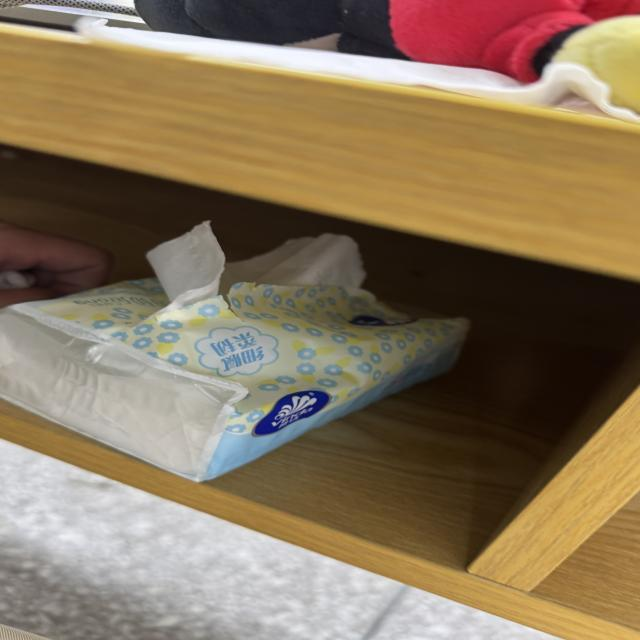mickey: (136, 0, 639, 110)
tissue: (0, 223, 467, 479), (148, 222, 365, 308), (221, 234, 365, 292), (147, 222, 225, 308), (0, 271, 36, 289)
